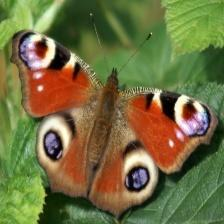butterfly: (11, 30, 219, 218)
